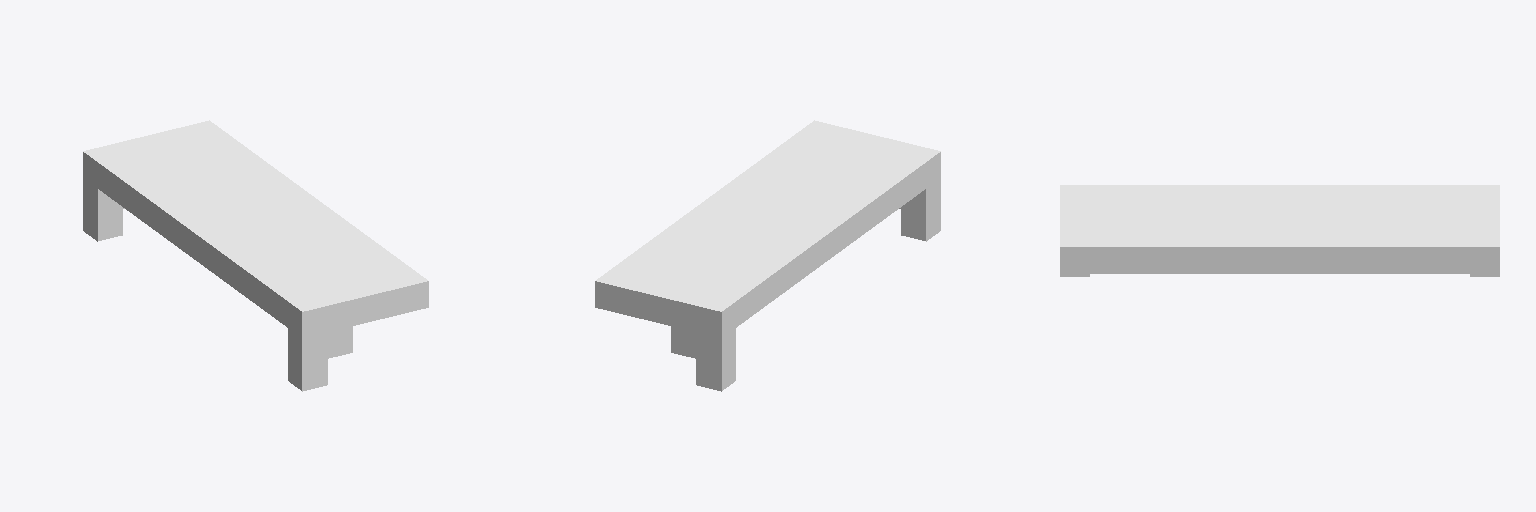
Rendered from misc-shelf.obj.
3 views of the same model, side by side, from view 1: azimuth 30°, elevation 25°; view 2: azimuth 150°, elevation 25°; view 3: azimuth 270°, elevation 25° (orthographic).
Parts seen in each view (by area): view 1: misc:shelf; view 2: misc:shelf; view 3: misc:shelf.
Part boxes in pixels (x1,y1,x2,y2): misc:shelf: (83, 120, 428, 391); misc:shelf: (595, 120, 940, 391); misc:shelf: (1060, 185, 1499, 276).
Size of the model in its own units: 5 by 3 by 15.